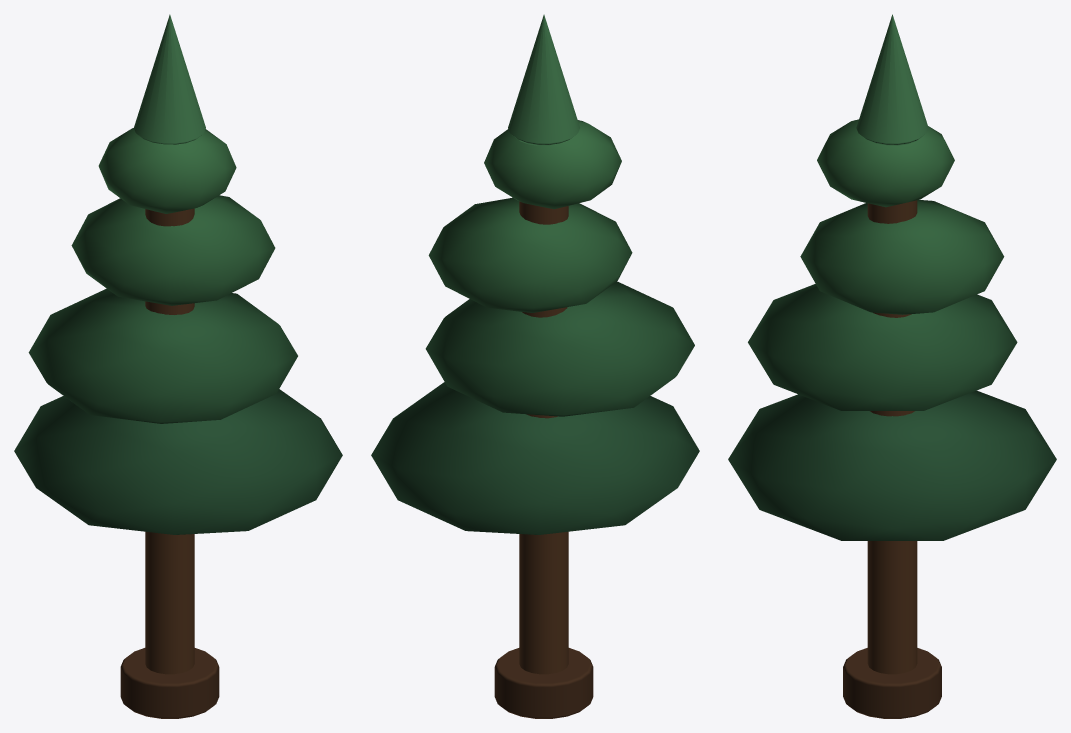
The model's file is tree-pine.9bf2abf7.glb.
3 renders of one model, left to right at view 1: azimuth 30°, elevation 25°; view 2: azimuth 150°, elevation 25°; view 3: azimuth 270°, elevation 25°, orthographic.
Parts seen in each view (by area): view 1: body; view 2: body; view 3: body.
Part boxes in pixels (x1,y1,x2,y2): body: (14, 14, 342, 718); body: (371, 14, 699, 718); body: (728, 14, 1056, 718).
Size of the model in its own units: 1 by 2.3 by 1.
